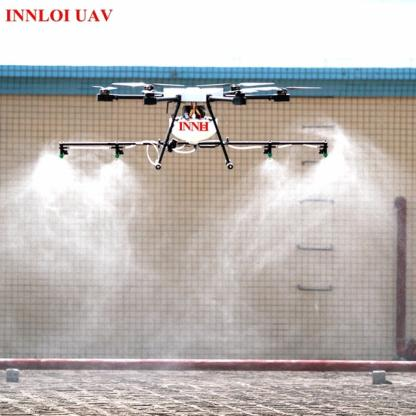drone: (70, 72, 322, 124)
